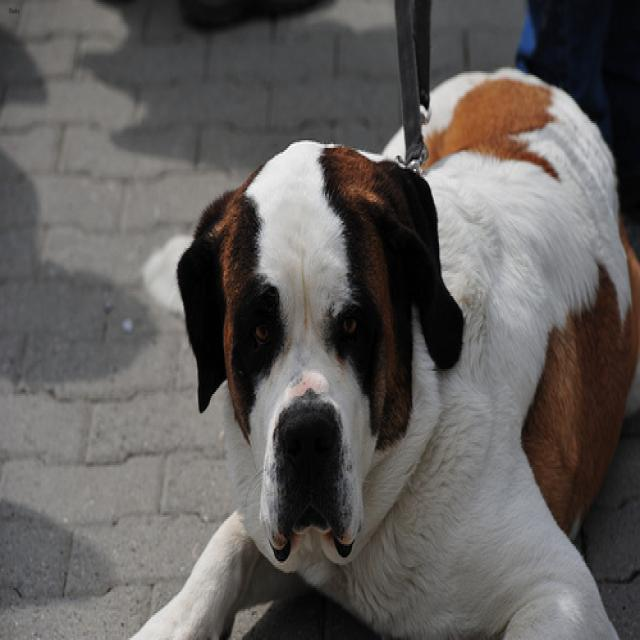dog-saint_bernard: (120, 62, 637, 636)
